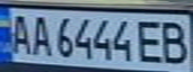4: (90, 16, 115, 61), (112, 16, 136, 62), (72, 15, 93, 61)
6: (51, 14, 75, 58)
A: (6, 11, 33, 56), (27, 11, 54, 56)
B: (157, 17, 193, 65)
E: (133, 17, 166, 64)
